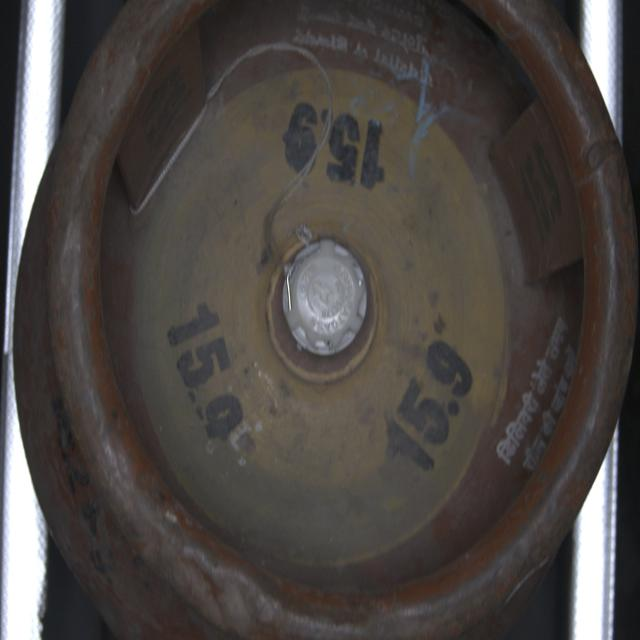Cap: (282, 241, 374, 363)
